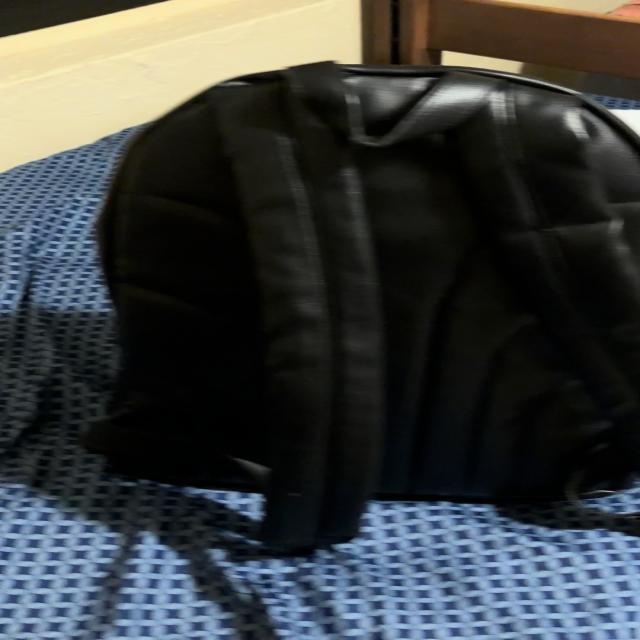backpack: (86, 63, 640, 549)
